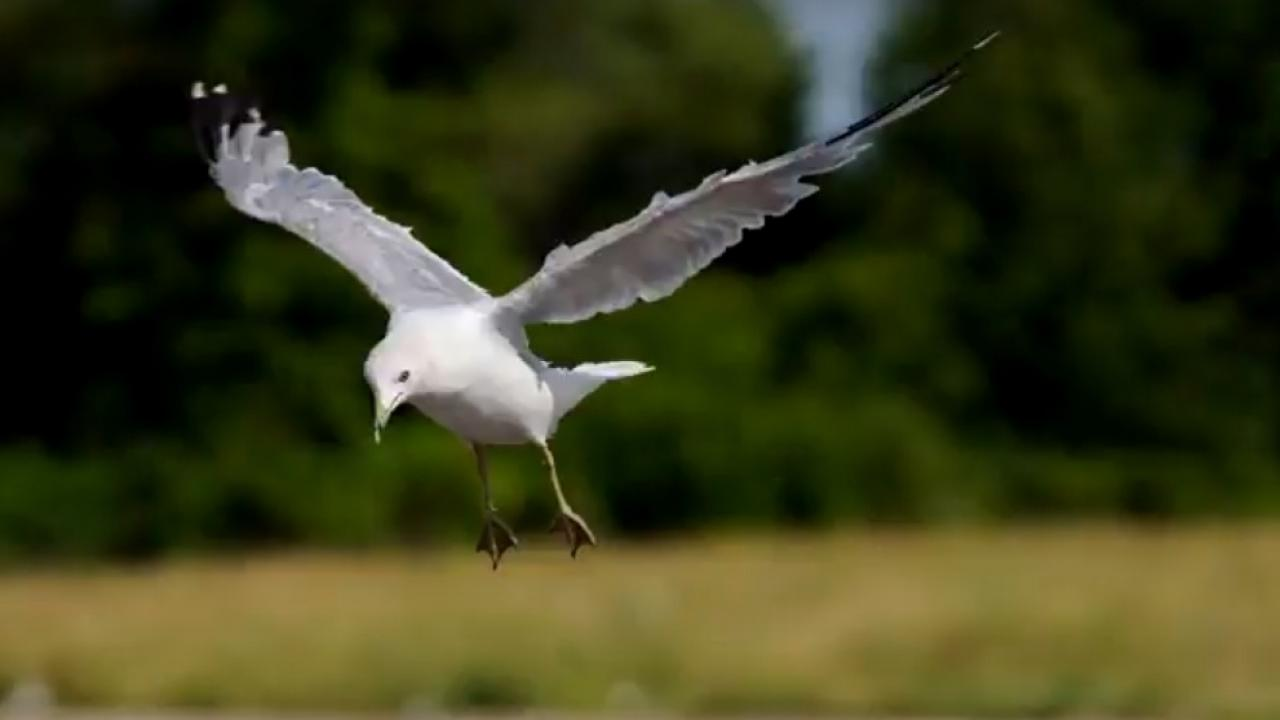Bird: (167, 19, 1015, 576)
